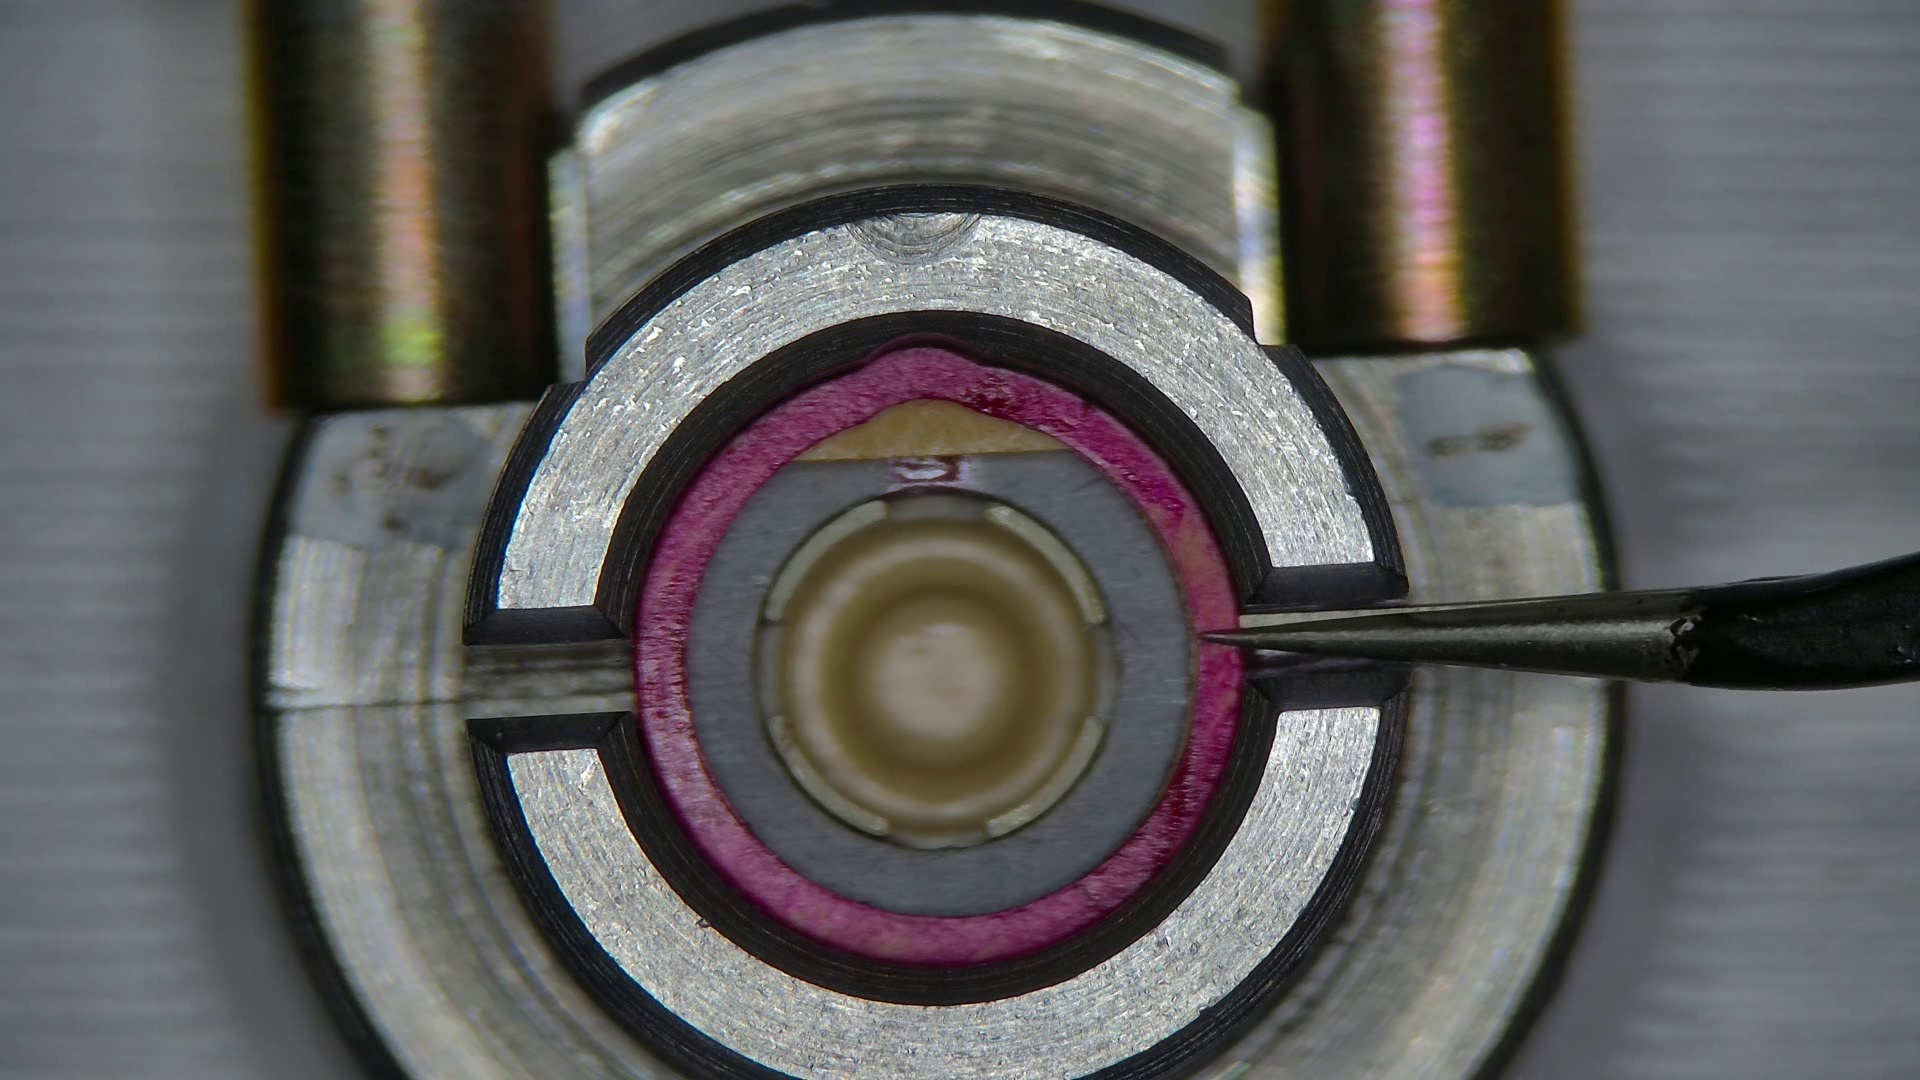GreyOring: (636, 345, 1241, 963)
YellowOring: (691, 454, 1189, 914)
redOring: (796, 401, 1071, 464)
